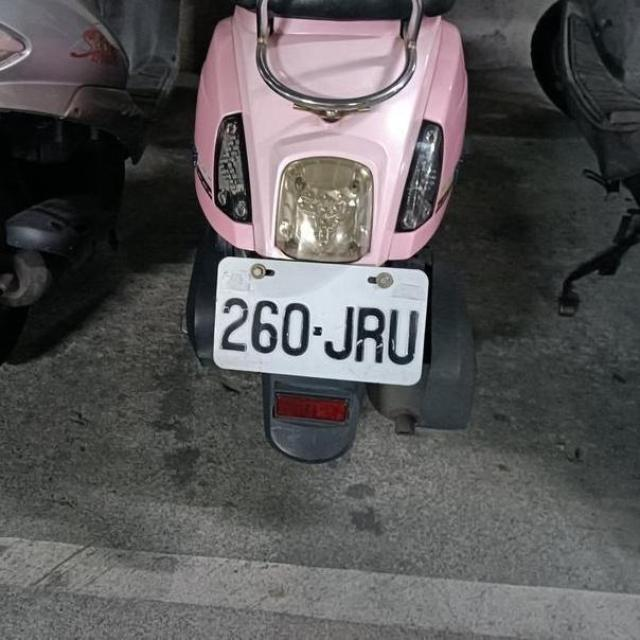W: (208, 253, 431, 388)
